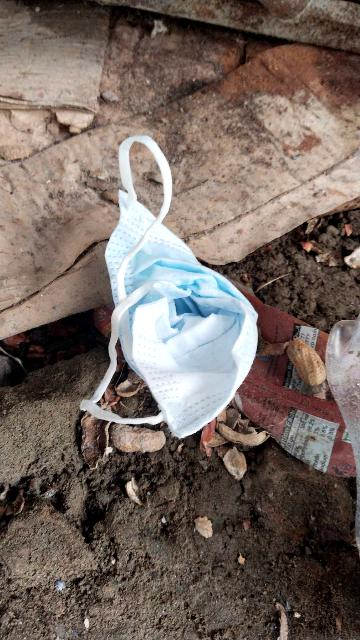mask: (67, 106, 276, 485)
